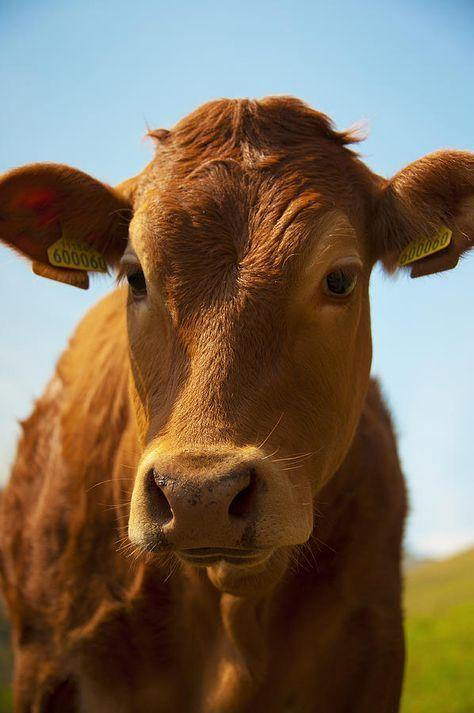cow: (8, 56, 464, 713)
